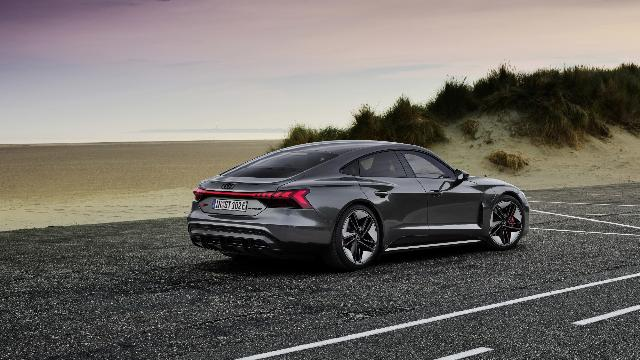audi: (186, 140, 532, 270)
